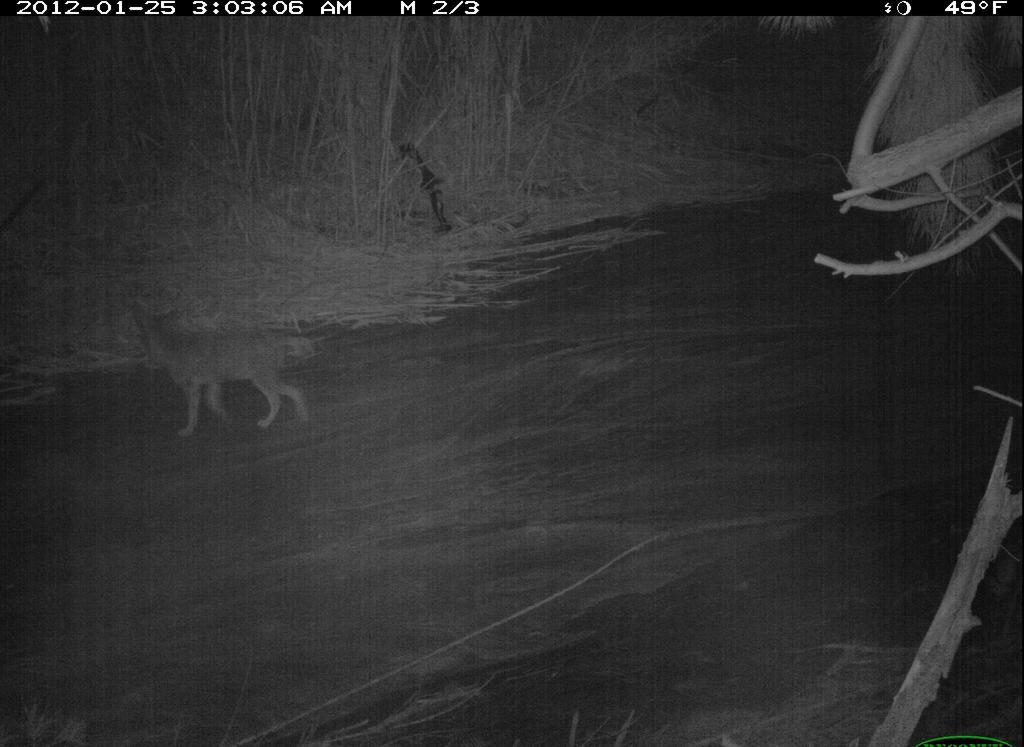coyote: (121, 290, 323, 443)
